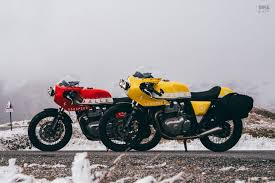motorcycle: (100, 72, 255, 155), (29, 75, 161, 158)
